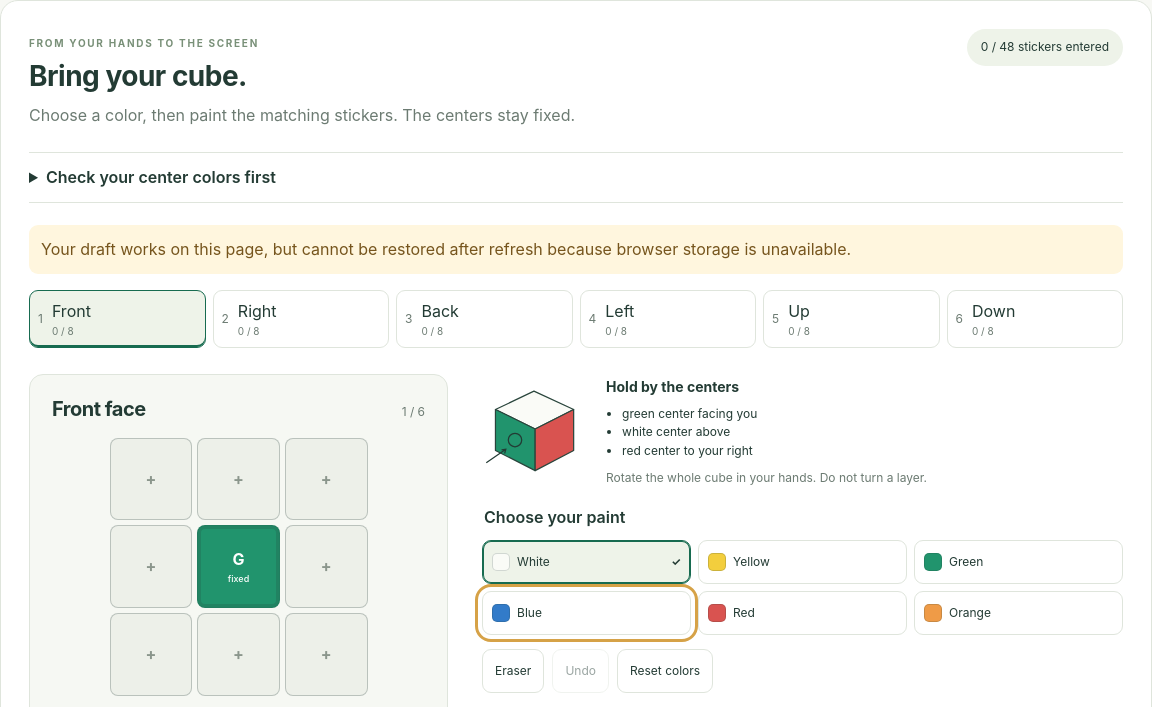
it: supports Enter and Space painting and exposes local validation issues
Expected: the text "cannot be restored after refresh" is shown, [41,239,851,259]
Press Enter
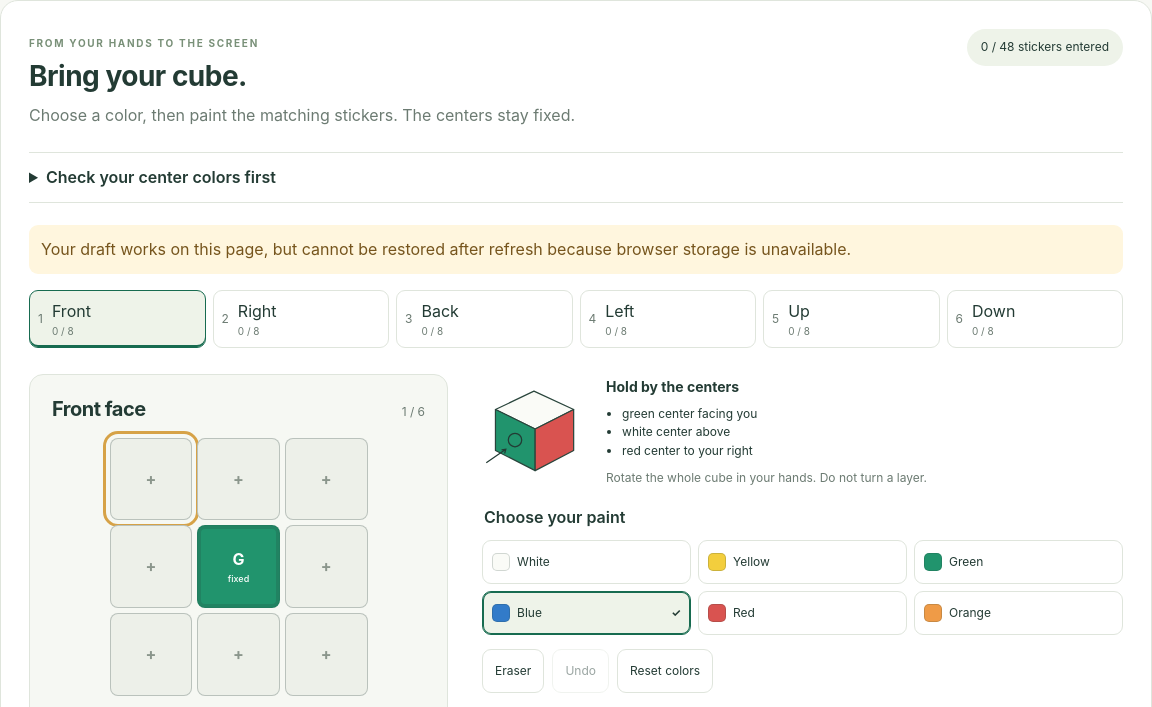
Type keys " "
(page scrolled)
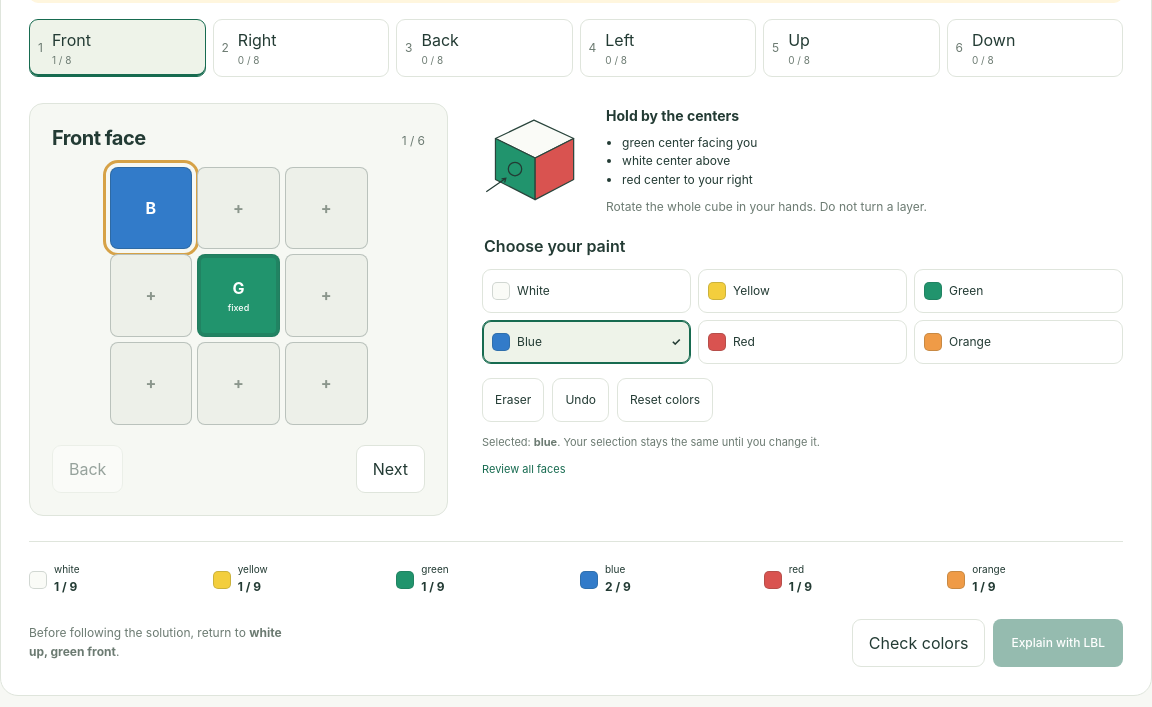
Click the button "Check colors". click: (919, 643)
box: [852,619,986,667]
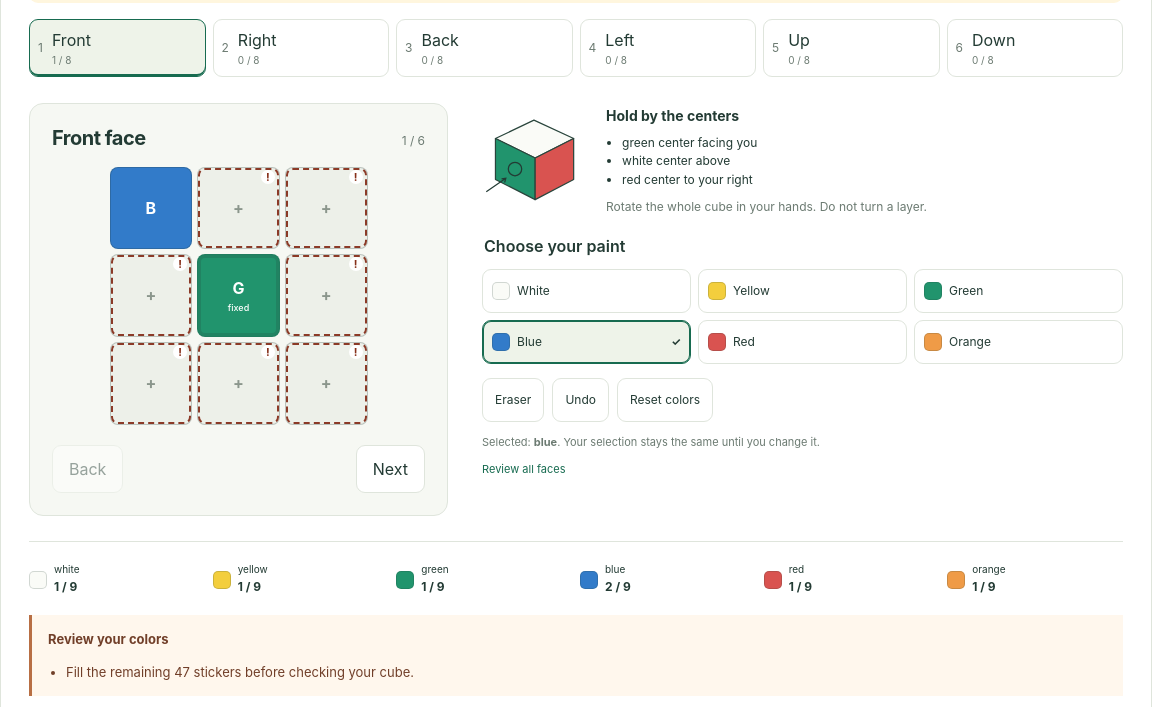
Expected: the message "Review your colors Fill the remaining 47 stickers before checking your cube." is shown, [29,615,1123,696]
